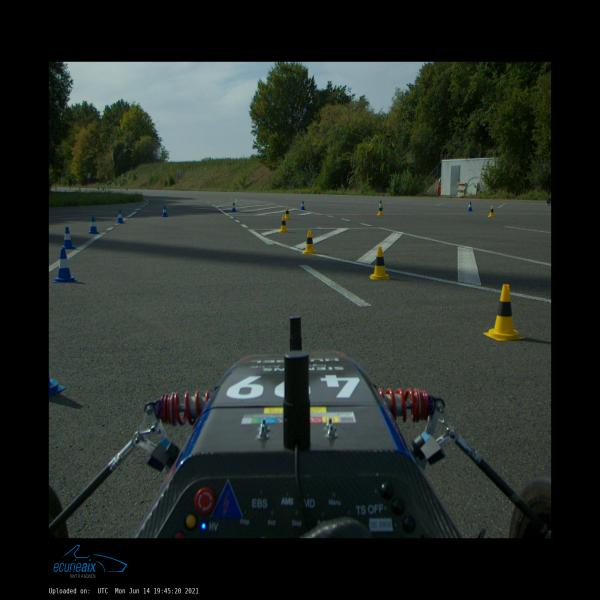blue_cone: (52, 247, 76, 282), (60, 227, 76, 249), (89, 217, 99, 234), (117, 210, 124, 223), (162, 206, 169, 217), (467, 202, 473, 211), (231, 203, 237, 212), (300, 201, 306, 210), (378, 201, 383, 209)
yellow_cone: (484, 284, 524, 341), (369, 247, 390, 279), (301, 230, 318, 254), (278, 216, 288, 233), (488, 206, 496, 217), (377, 204, 384, 216), (285, 207, 291, 220)
